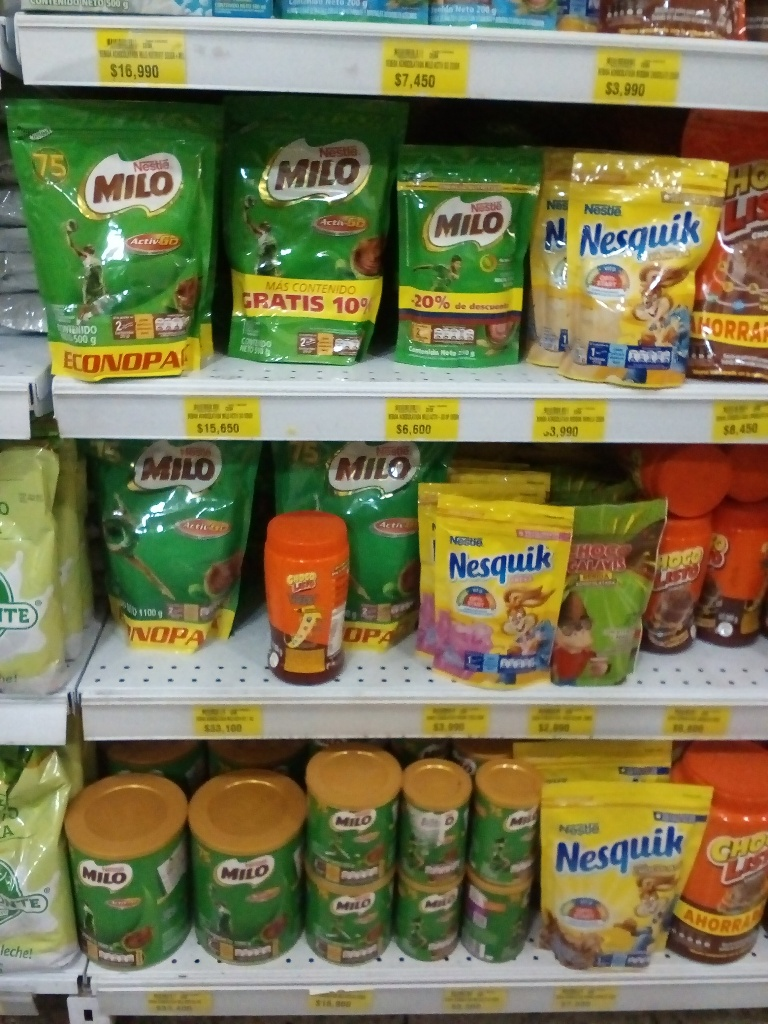COL0170103DYP44000: (681, 106, 768, 380)
COL0170103TRR00100: (670, 738, 761, 960)
COL0170203LAT20000: (405, 758, 470, 887)
COL0170203LAT40000: (301, 733, 400, 876)
